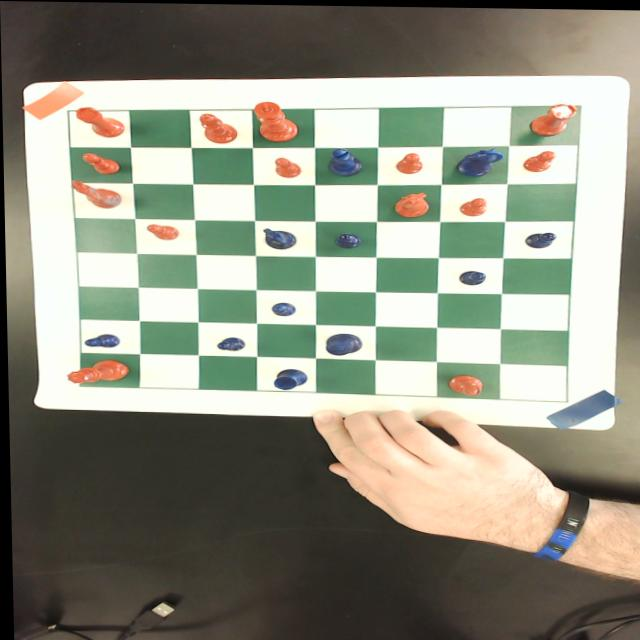B: (325, 146, 365, 175)
K: (322, 331, 361, 354)
N: (450, 144, 509, 176), (259, 225, 299, 251)
P: (523, 229, 557, 247), (82, 333, 120, 347), (333, 231, 362, 247), (214, 335, 244, 350), (457, 269, 485, 283), (270, 301, 295, 315)
R: (272, 368, 307, 389)
b: (197, 111, 238, 142), (446, 372, 484, 395)
cb: (68, 103, 581, 399)
k: (253, 99, 296, 141)
n: (69, 179, 126, 207), (390, 190, 431, 216)
p: (81, 150, 121, 173), (520, 148, 557, 169), (145, 222, 179, 241), (394, 151, 422, 173), (273, 155, 302, 176), (457, 195, 488, 214)
q: (64, 358, 129, 383)
r: (529, 100, 581, 135), (73, 106, 124, 136)
